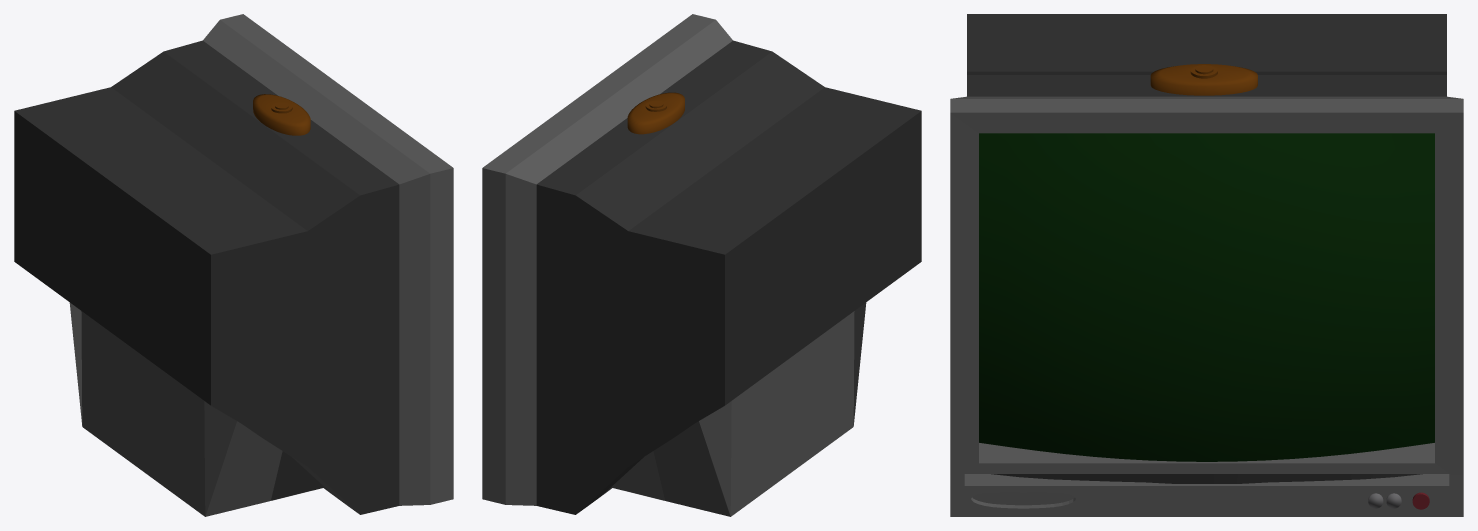
3 renders of one model, left to right at view 1: azimuth 30°, elevation 25°; view 2: azimuth 150°, elevation 25°; view 3: azimuth 270°, elevation 25°, orthographic. The views are drawn at different scales.
Parts seen in each view (by area): view 1: Plane.003, Plane, Cylinder.003; view 2: Plane.003, Plane, Cylinder.003; view 3: Plane.001, Plane, Plane.003, Plane.002, Cylinder.003.
Part boxes in pixels (x1,y1,x2,y2): Plane.003: [14, 40, 399, 514]; Plane: [69, 14, 453, 516]; Cylinder.003: [253, 94, 310, 135]; Plane.003: [536, 40, 921, 514]; Plane: [482, 14, 866, 516]; Cylinder.003: [627, 92, 684, 134]; Plane.001: [979, 133, 1434, 461]; Plane: [950, 96, 1463, 516]; Plane.003: [967, 14, 1446, 96]; Plane.002: [991, 474, 1422, 483]; Cylinder.003: [1150, 64, 1257, 95].
Size of the model in its own units: 544 by 687 by 784.
